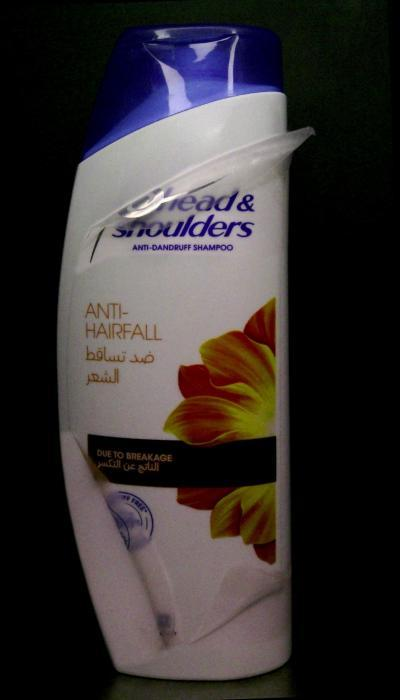adhesion_unacc: (73, 430, 181, 650), (83, 132, 292, 234), (188, 561, 285, 643)
